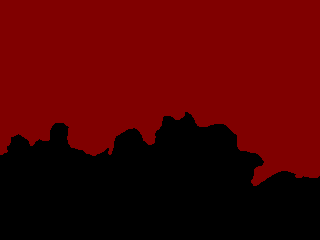Sky: (1, 1, 319, 185)
